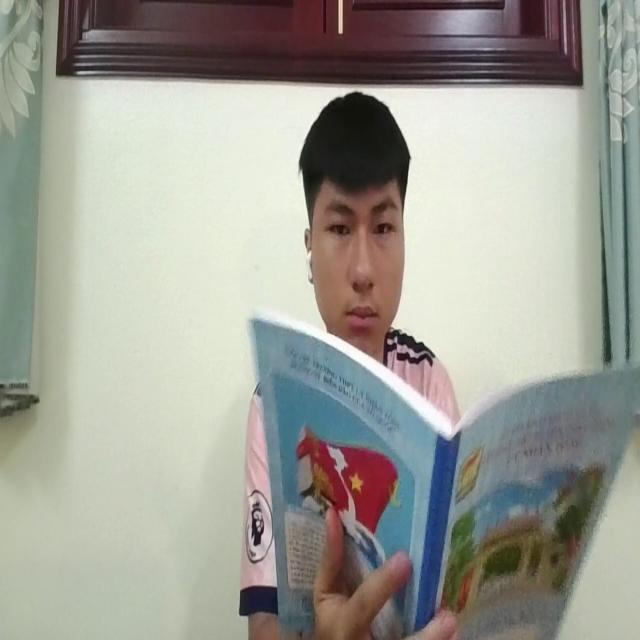book: (248, 306, 639, 640)
student: (301, 87, 462, 420)
